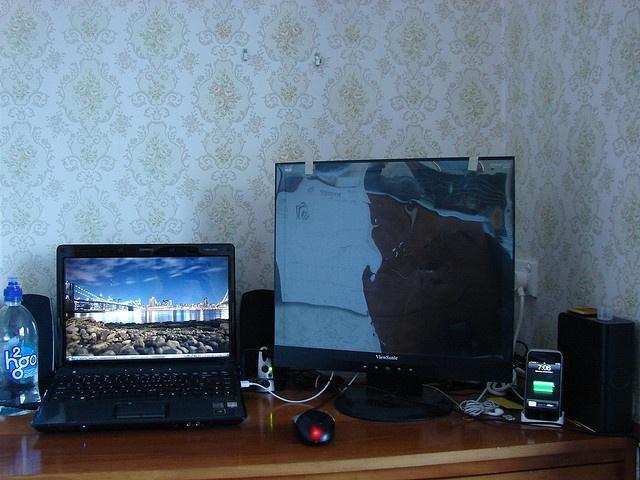AIO PC-Monitor-TV: (273, 155, 516, 384)
